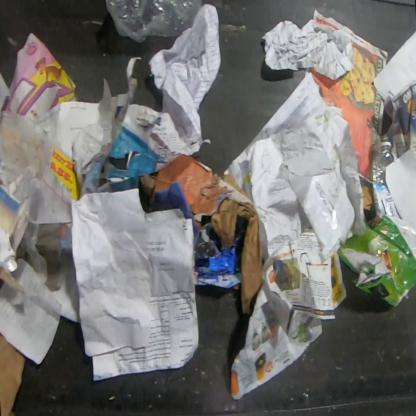cardboard: (154, 153, 255, 229), (336, 214, 415, 309), (210, 197, 265, 317), (0, 331, 27, 415), (139, 173, 156, 200)
rigid_plastic: (371, 133, 402, 219)
soft_plastic: (71, 56, 143, 200), (105, 0, 203, 44), (35, 222, 67, 291), (80, 153, 112, 199)
